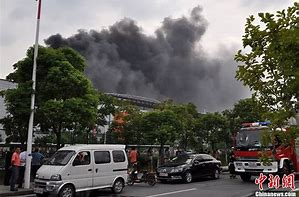smoke: (52, 22, 231, 96)
